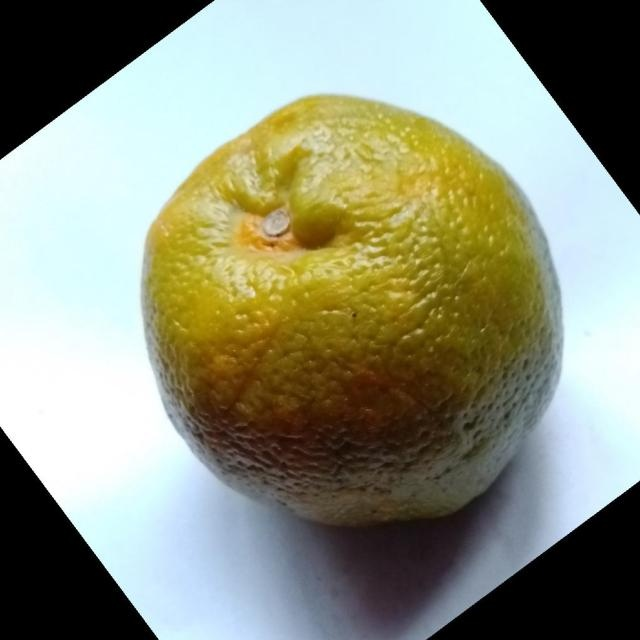agrume: (139, 92, 565, 528)
